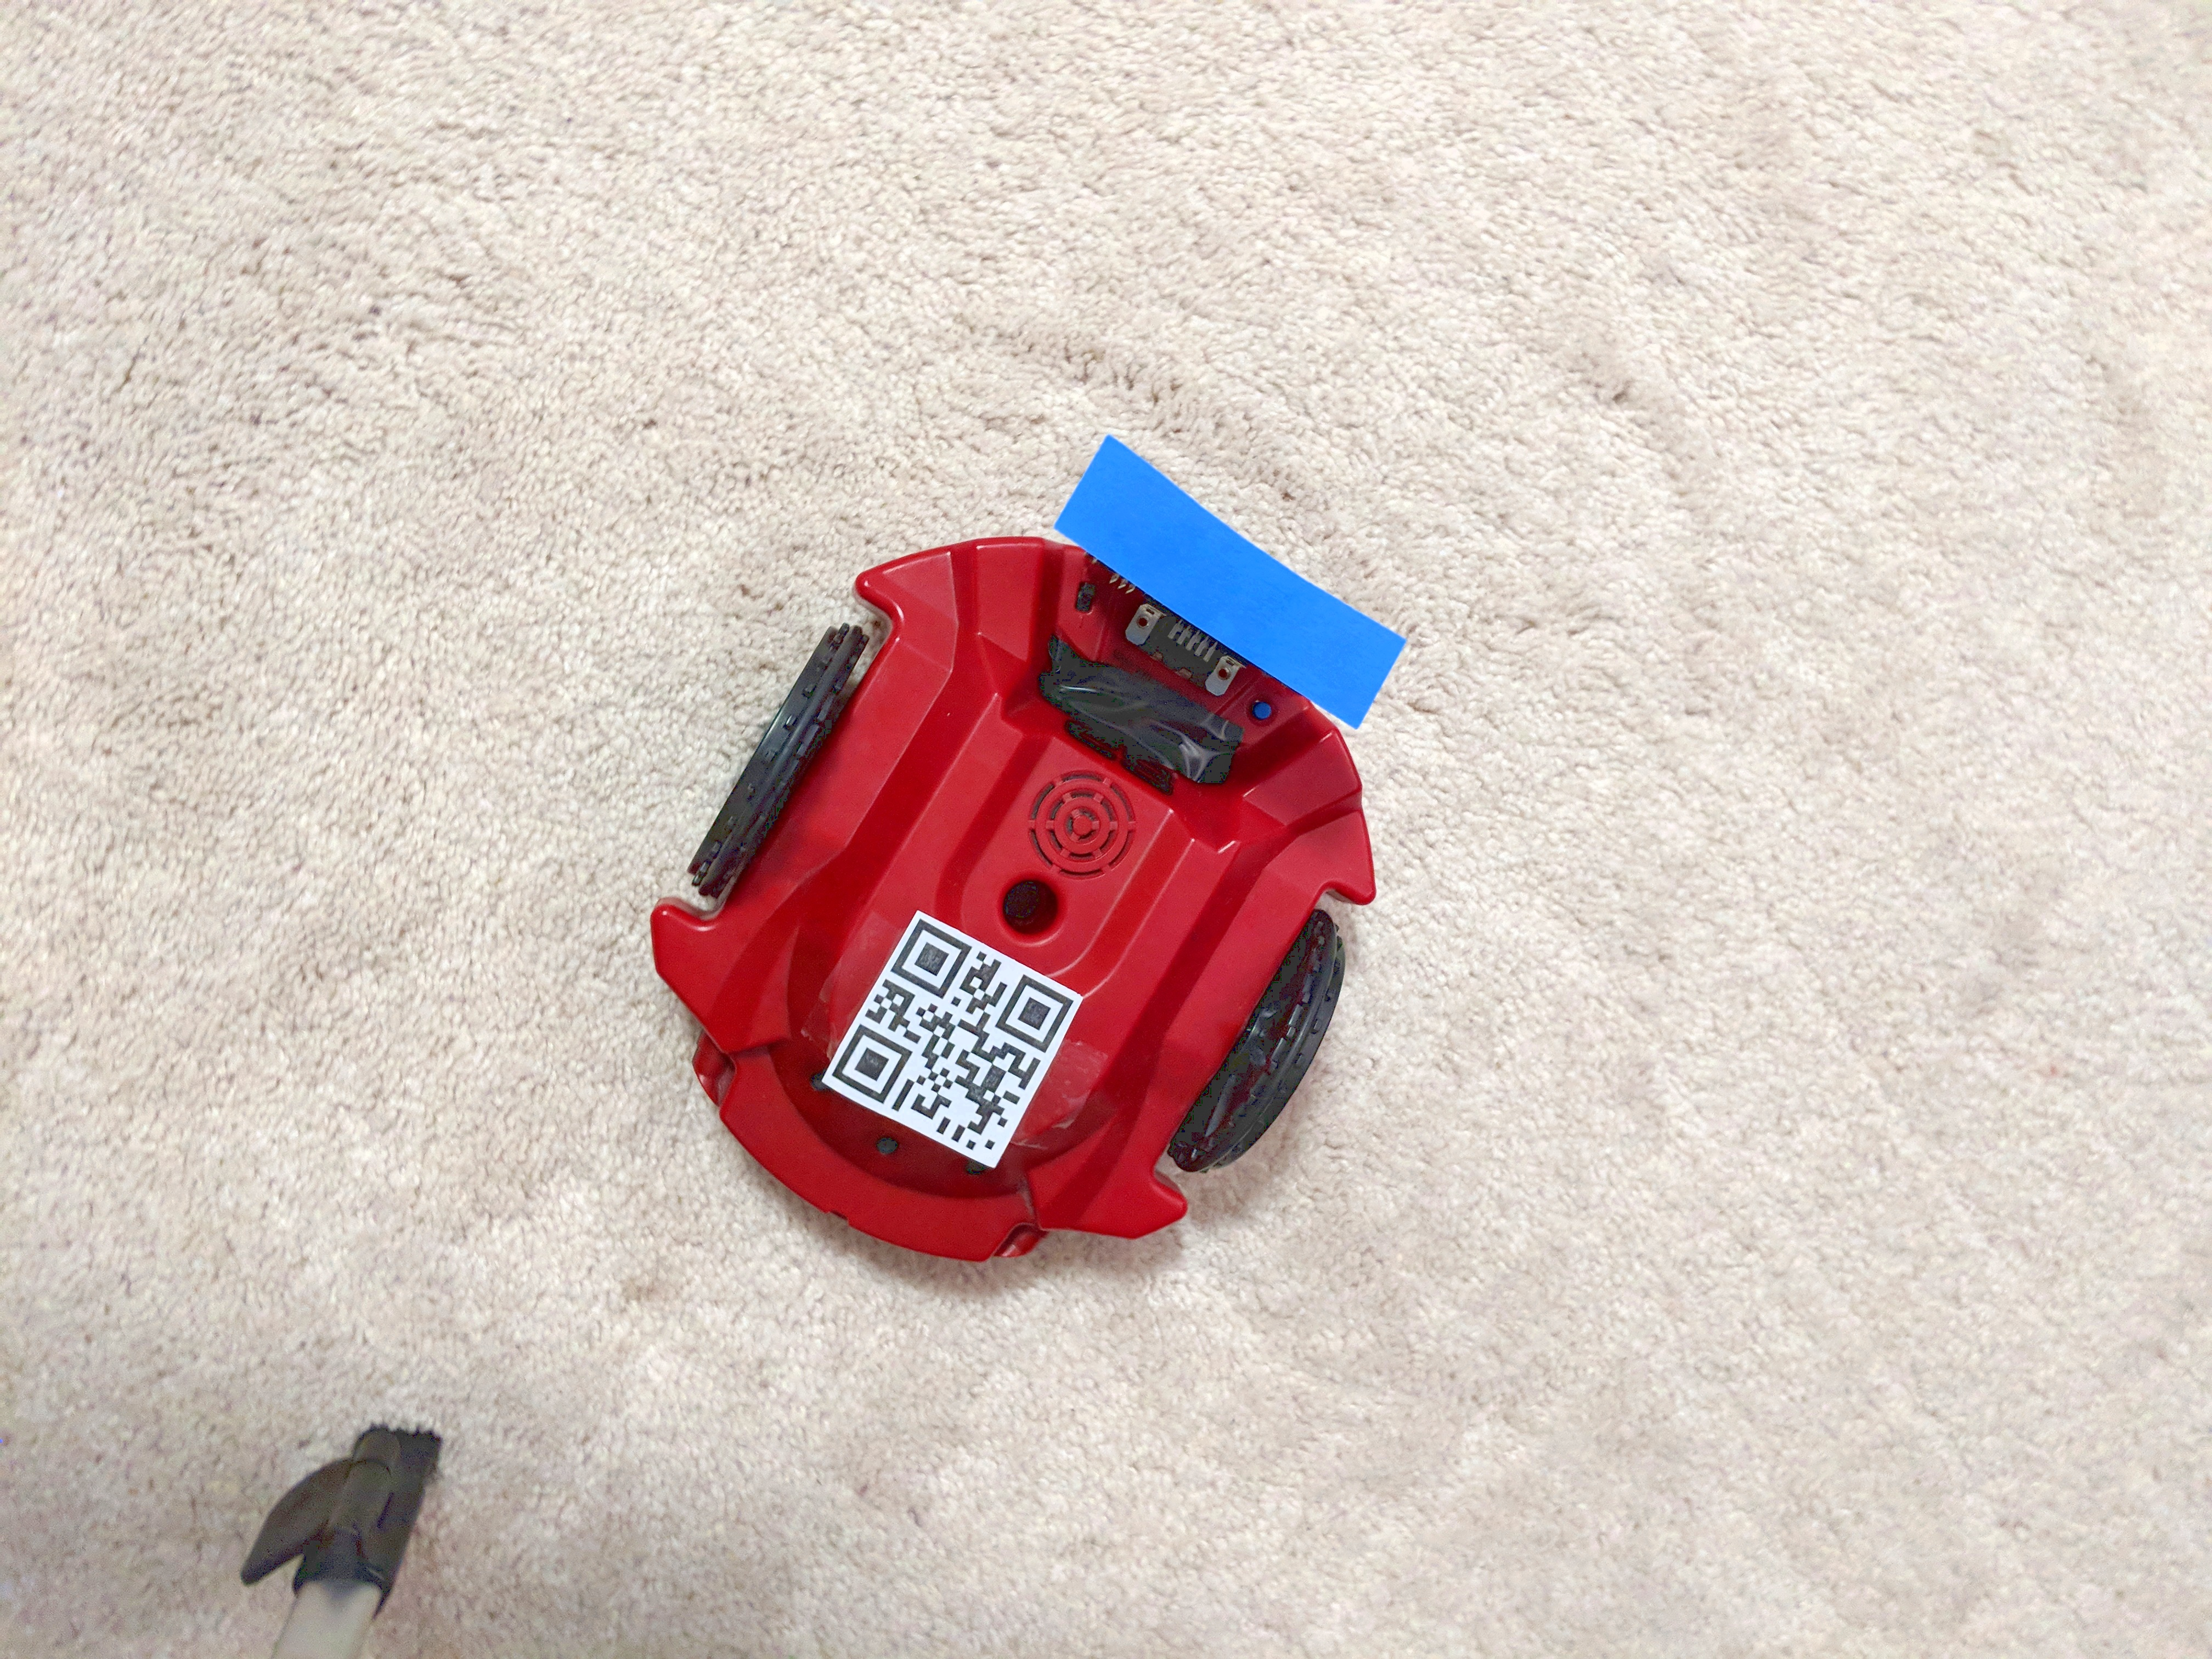board: (1050, 415, 1418, 730)
chassis: (624, 439, 1407, 1312)
